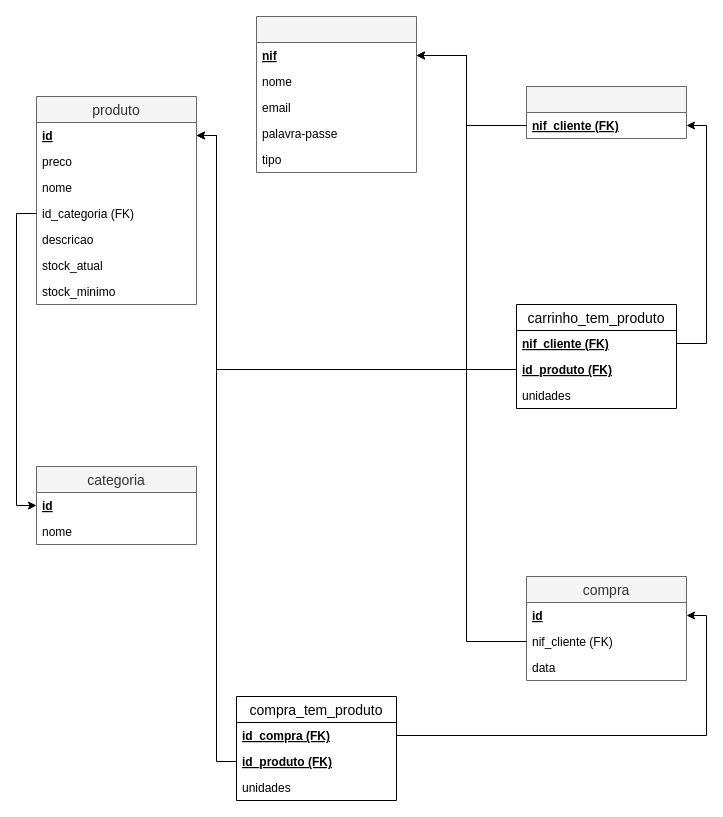
The diagram is 723 pixels wide and 817 high, and some of its shapes have lost their labels. Each missing label, with the box of its shape:
carrinho: (526, 86, 686, 138)
pessoa: (256, 16, 416, 172)
